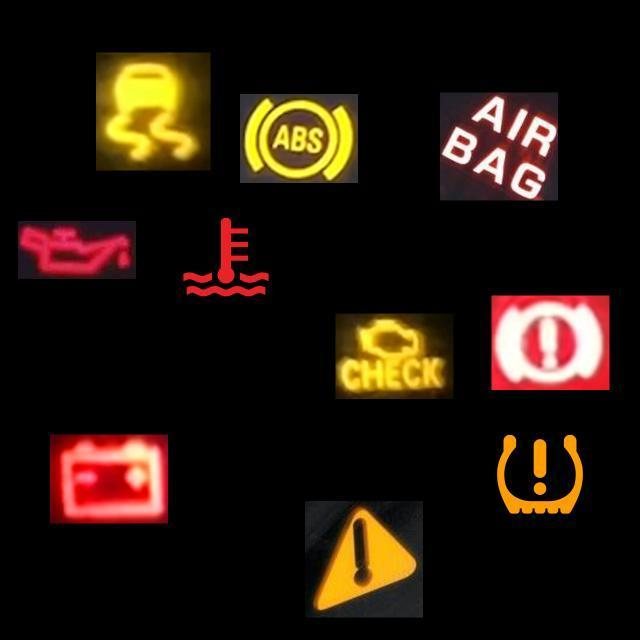Central Warning lamp: (305, 500, 423, 618)
Engine cooling system: (167, 198, 285, 316)
